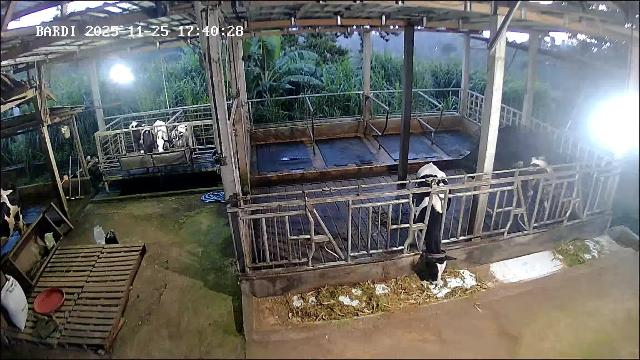mounting: (457, 128, 553, 207)
